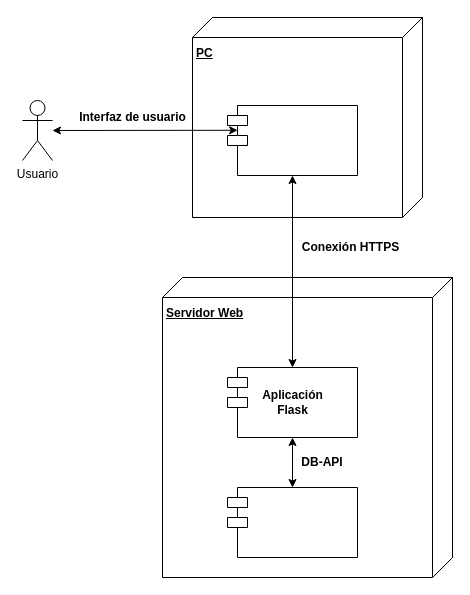
Some shapes in this 470 by 595 pixel diagram are drawn without their labels. The shapes that lost their labels are listed below. From the top down, each one's centre as x and y in pixels, then its label:
At point 292,140: "Navegador Web".
At point 292,522: "SQLite".
